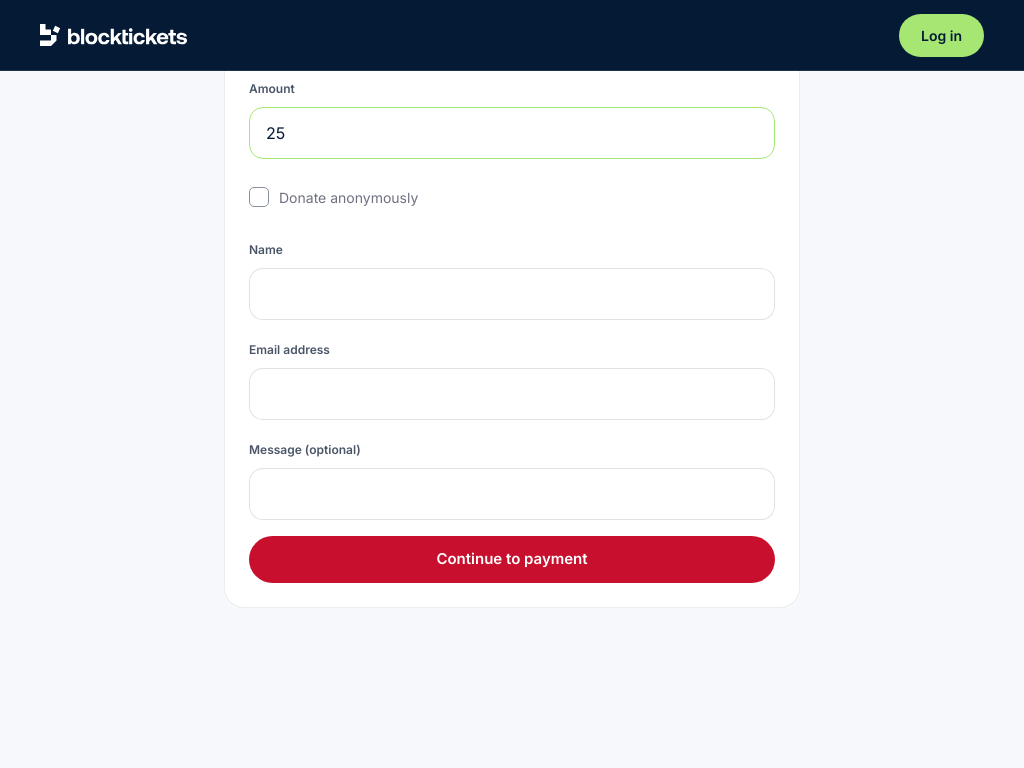
Test: FundraisingCampaignClient donor fields › requires an email when the donor is not anonymous
(page scrolled)
Click the button "Continue to payment" at coordinates (512, 559), box x1=249 y1=536 x2=775 y2=582
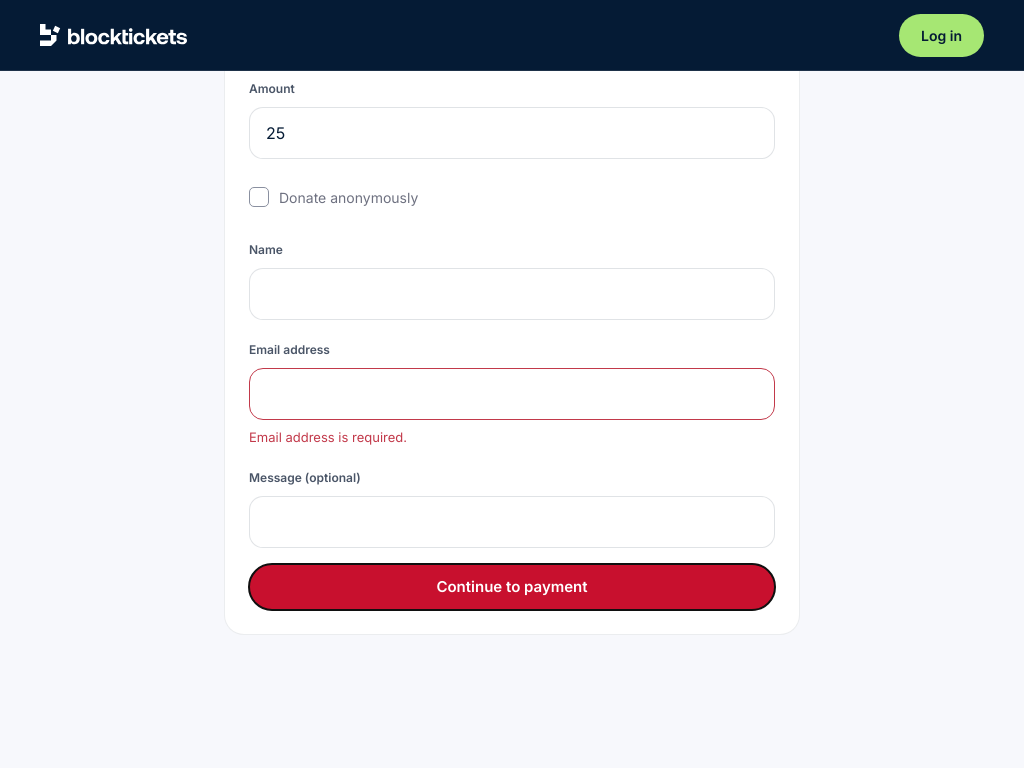
Now the text "Email address is required." is shown, box x1=249 y1=429 x2=407 y2=445
